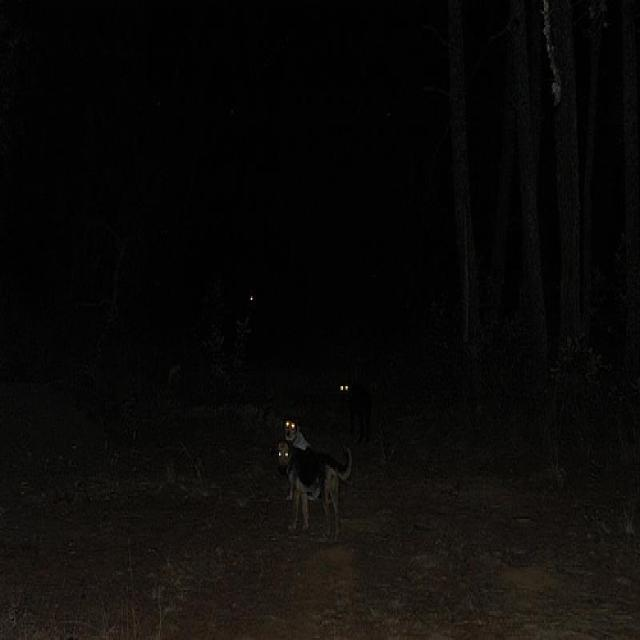Dog: (269, 386, 369, 582)
